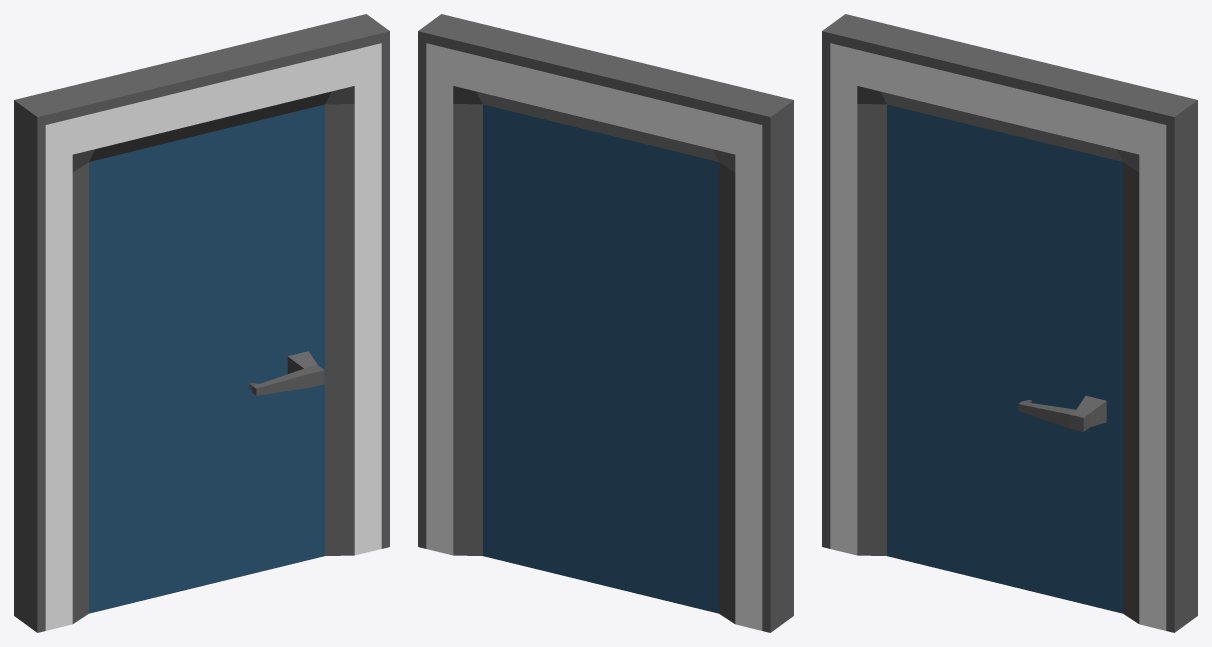
File: Blue Door.fbx
3 views of the same model, side by side, from view 1: azimuth 30°, elevation 25°; view 2: azimuth 150°, elevation 25°; view 3: azimuth 330°, elevation 25° (orthographic).
Parts seen in each view (by area): view 1: Cube; view 2: Cube; view 3: Cube.
Part boxes in pixels (left/top/right/bottom): Cube: left=14, top=14, right=389, bottom=632; Cube: left=418, top=14, right=793, bottom=632; Cube: left=822, top=14, right=1197, bottom=632.
Size of the model in its own units: 324 by 453 by 57.7.
